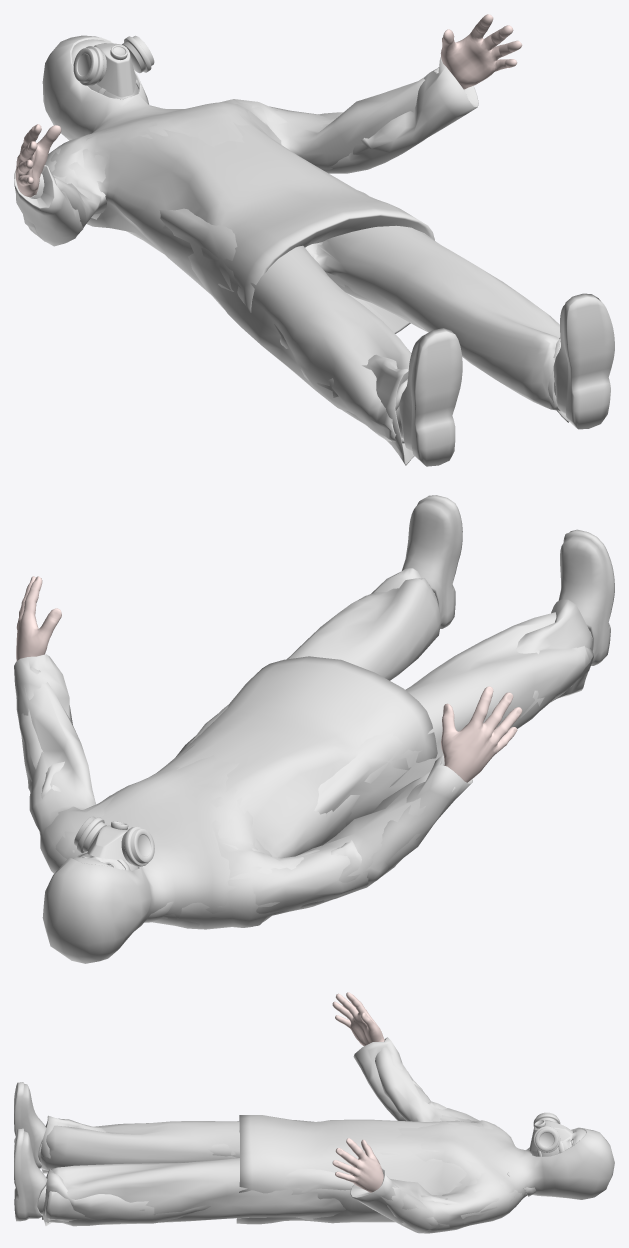
File: HospitalStaff_1.fbx
3 views of the same model, one above another, from view 1: azimuth 30°, elevation 25°; view 2: azimuth 150°, elevation 25°; view 3: azimuth 270°, elevation 25° (orthographic). The views are drawn at different scales.
Visible parts, largest first — view 1: clothes_1, clothes_2, hand, mask; view 2: clothes_1, clothes_2, hand, mask; view 3: clothes_1, clothes_2, hand, mask, head_1.
Boxes of the visible parts, x1,y1,x2,y2 form: clothes_1: [23, 35, 614, 466]; clothes_2: [14, 57, 614, 465]; hand: [15, 14, 522, 197]; mask: [73, 35, 154, 97]; clothes_1: [16, 495, 614, 963]; clothes_2: [14, 496, 612, 929]; hand: [16, 576, 522, 782]; mask: [74, 816, 154, 870]; clothes_1: [14, 1047, 614, 1233]; clothes_2: [14, 1037, 536, 1233]; hand: [332, 992, 384, 1192]; mask: [529, 1112, 572, 1156]; head_1: [530, 1129, 586, 1156].
Bounding box in the file's own units: 1136 × 499 × 1800.
